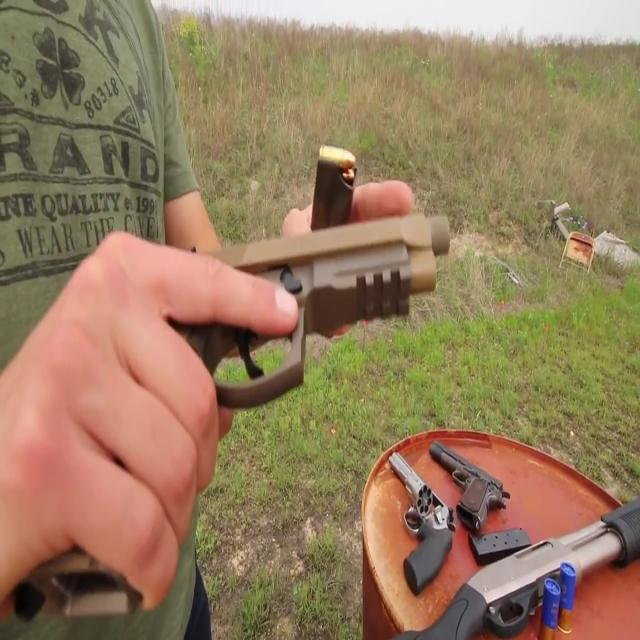Weapon: (7, 148, 460, 612), (222, 243, 640, 640)
